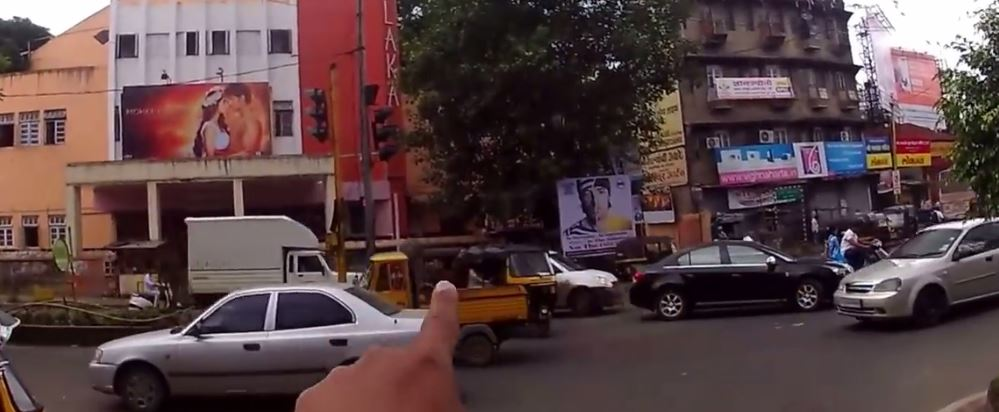autorickshaw: (505, 232, 564, 351), (2, 357, 48, 412)
car: (86, 276, 414, 412), (624, 230, 850, 353), (832, 211, 999, 330)
